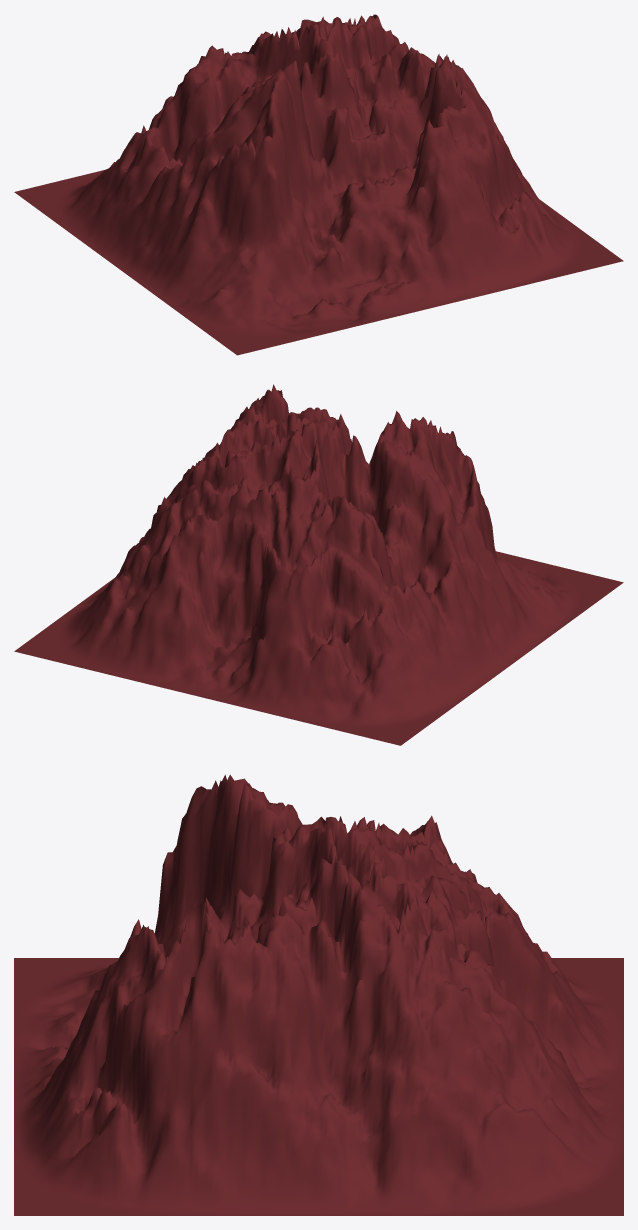
Rendered from Vuori.fbx.
3 renders of one model, top to bottom at view 1: azimuth 30°, elevation 25°; view 2: azimuth 150°, elevation 25°; view 3: azimuth 270°, elevation 25°, orthographic. The views are drawn at different scales.
Parts seen in each view (by area): view 1: Landscape.001; view 2: Landscape.001; view 3: Landscape.001.
Boxes of the visible parts, x1,y1,x2,y2 form: Landscape.001: (14, 14, 623, 355); Landscape.001: (14, 384, 623, 745); Landscape.001: (14, 774, 623, 1215).
Size of the model in its own units: 200 by 103 by 200.
